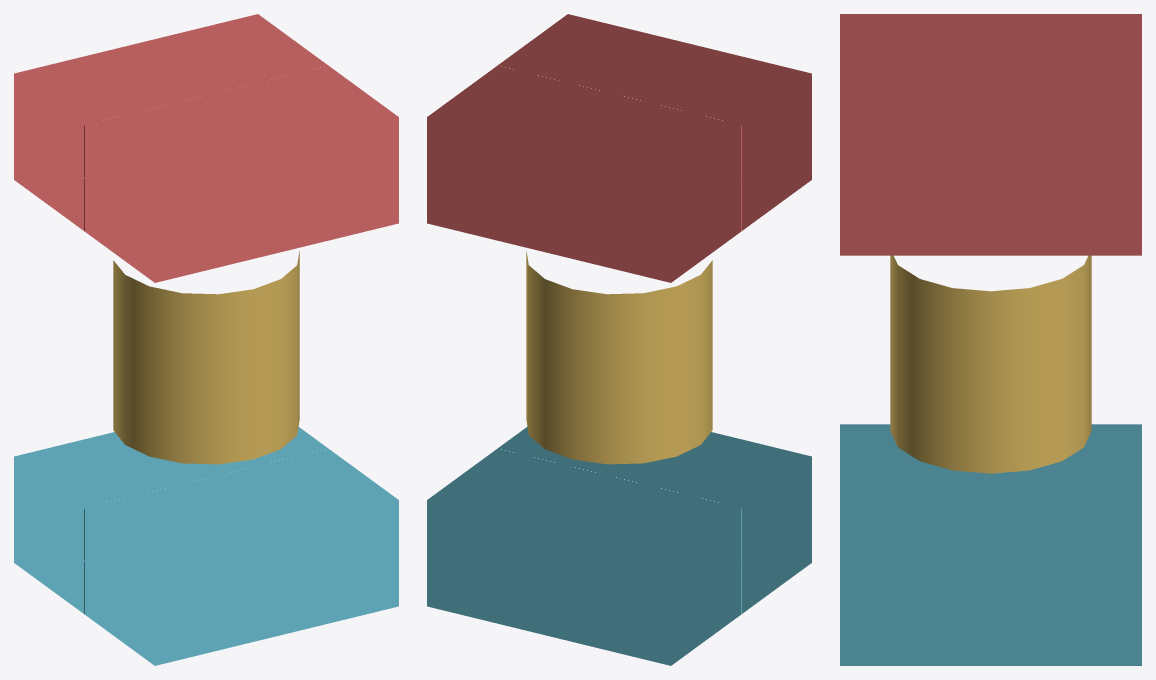
Rendered from thermodynamics.glb.
3 renders of one model, left to right at view 1: azimuth 30°, elevation 25°; view 2: azimuth 150°, elevation 25°; view 3: azimuth 270°, elevation 25°, orthographic. The views are drawn at different scales.
Visible parts, largest first — view 1: HotReservoir, ColdReservoir, EngineCore; view 2: HotReservoir, ColdReservoir, EngineCore; view 3: HotReservoir, ColdReservoir, EngineCore.
Boxes of the visible parts, x1,y1,x2,y2 form: HotReservoir: (14,14,398,282); ColdReservoir: (14,427,398,665); EngineCore: (113,250,299,464); HotReservoir: (427,14,811,282); ColdReservoir: (427,427,811,665); EngineCore: (526,250,712,464); HotReservoir: (840,14,1141,255); ColdReservoir: (840,424,1141,665); EngineCore: (890,255,1091,473).
Size of the model in its own units: 1.2 by 2.3 by 1.2.
